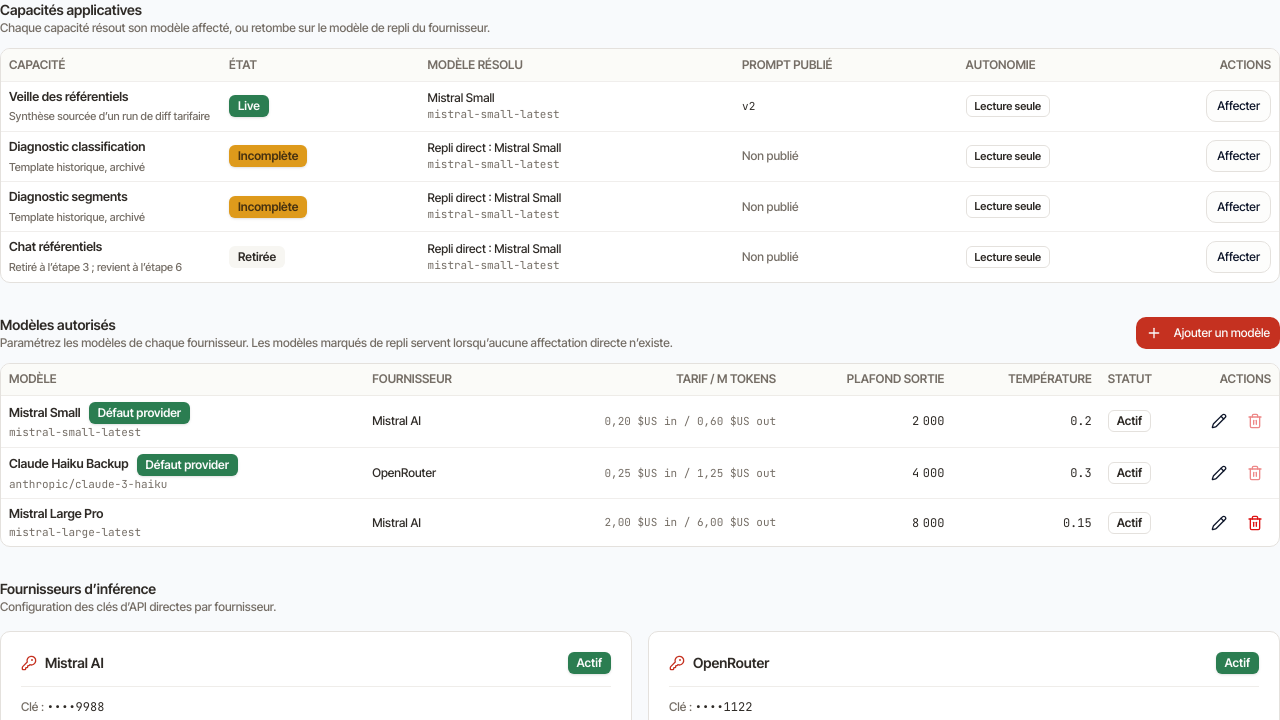
Test: AiCapabilitiesView › ouvre le formulaire d’ajout de modèle avec libellé et identifiant neutres
What coordinates should you click on to do the following:
click the button with test id "btn-add-model"
I would click on:
 (1208, 332)
Its box is [1136, 316, 1279, 348].
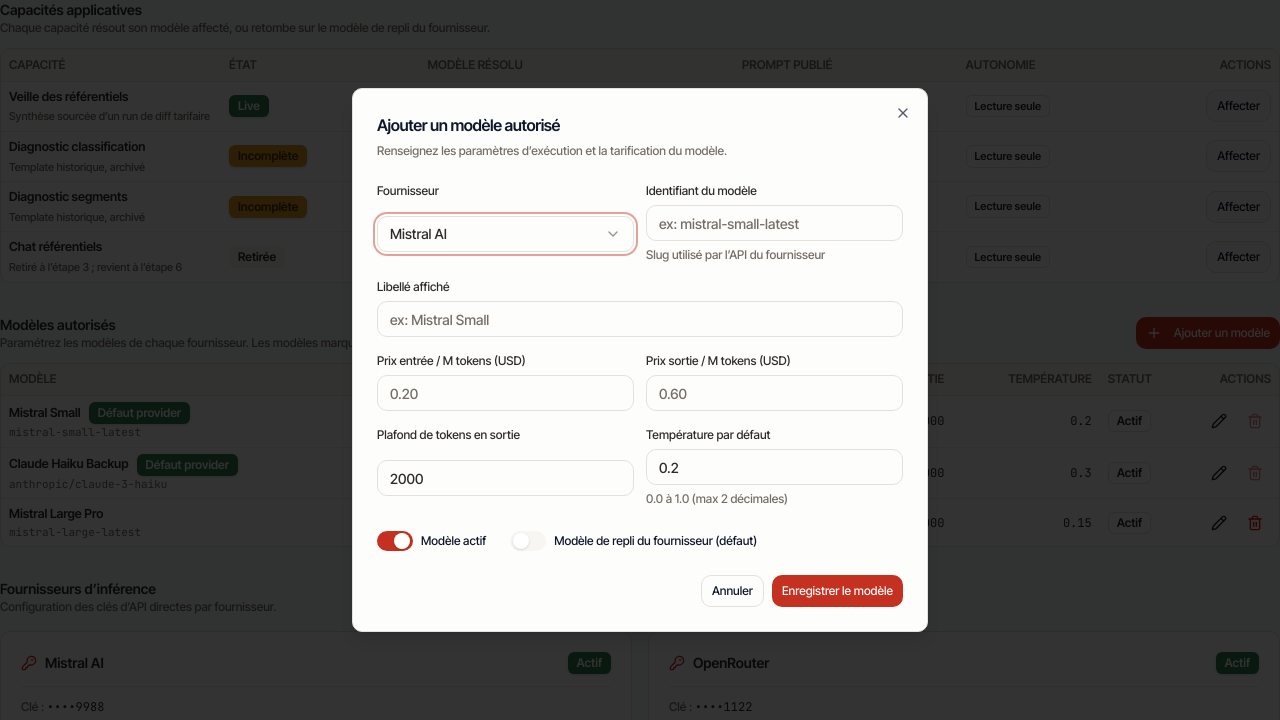
Now the dialog is shown, box [352, 88, 928, 632]
Now the field labelled "Identifiant du modèle Slug utilisé par l’API du fournisseur" is shown, box [646, 205, 903, 241]
